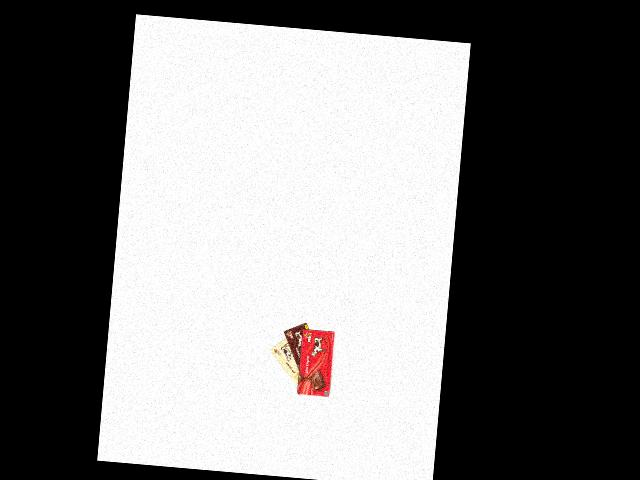chocolate: (265, 329, 308, 392)
